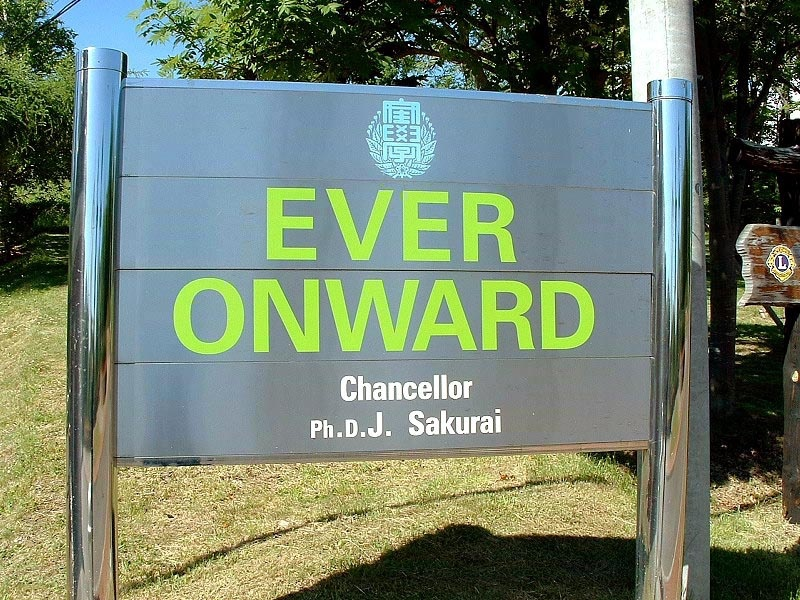text: (168, 277, 183, 356), (184, 277, 199, 356), (200, 277, 215, 356), (216, 277, 231, 356), (232, 277, 247, 356), (248, 277, 263, 356), (264, 277, 279, 356), (280, 277, 295, 356), (296, 277, 311, 356), (312, 277, 327, 356), (328, 277, 343, 356), (344, 277, 359, 356), (360, 277, 375, 356), (376, 277, 391, 356), (392, 277, 407, 356), (408, 277, 423, 356), (424, 277, 439, 356), (440, 277, 455, 356), (456, 277, 471, 356), (472, 277, 487, 356), (488, 277, 503, 356), (504, 277, 519, 356), (520, 277, 535, 356), (536, 277, 551, 356), (552, 277, 567, 356), (568, 277, 583, 356), (584, 277, 599, 356), (264, 187, 279, 265), (280, 187, 295, 265), (296, 187, 311, 265), (312, 187, 327, 265), (328, 187, 343, 265), (344, 187, 359, 265), (360, 187, 375, 265), (376, 187, 391, 265), (392, 187, 407, 265), (408, 187, 423, 265), (424, 187, 439, 265), (440, 187, 455, 265), (456, 187, 471, 265), (472, 187, 487, 265), (488, 187, 503, 265), (504, 187, 519, 265), (335, 373, 350, 404), (351, 373, 366, 404), (367, 373, 382, 404), (383, 373, 398, 404), (399, 373, 414, 404), (415, 373, 430, 404), (431, 373, 446, 404), (447, 373, 462, 404), (463, 373, 478, 404), (407, 407, 422, 438), (423, 407, 438, 438), (439, 407, 454, 438), (455, 407, 470, 438), (471, 407, 486, 438), (487, 407, 502, 438), (305, 412, 320, 440), (321, 412, 336, 440), (337, 412, 352, 440), (353, 412, 368, 440), (369, 412, 384, 440), (385, 412, 400, 440), (382, 123, 397, 143), (408, 125, 423, 144), (394, 125, 409, 144), (775, 256, 790, 272)
